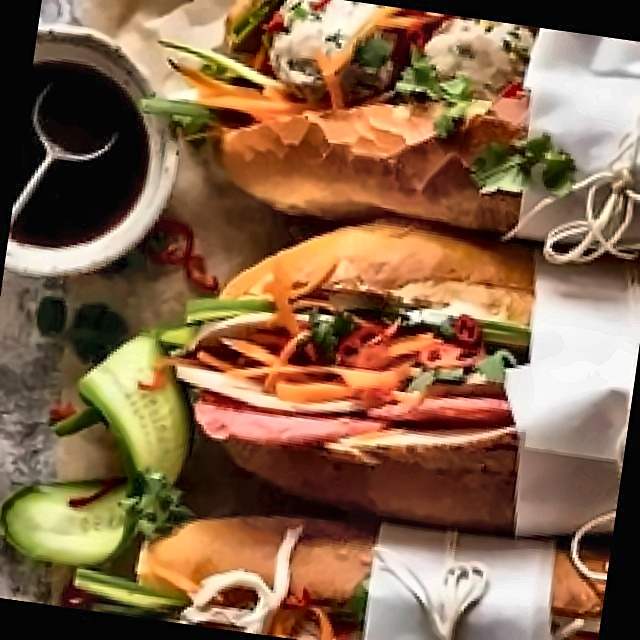bread: (217, 84, 529, 316), (142, 511, 366, 638)
cucumber_slice: (0, 322, 199, 581)
